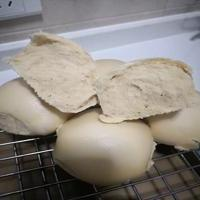biodegradable: (50, 108, 157, 187), (7, 31, 99, 114), (96, 57, 194, 124)
